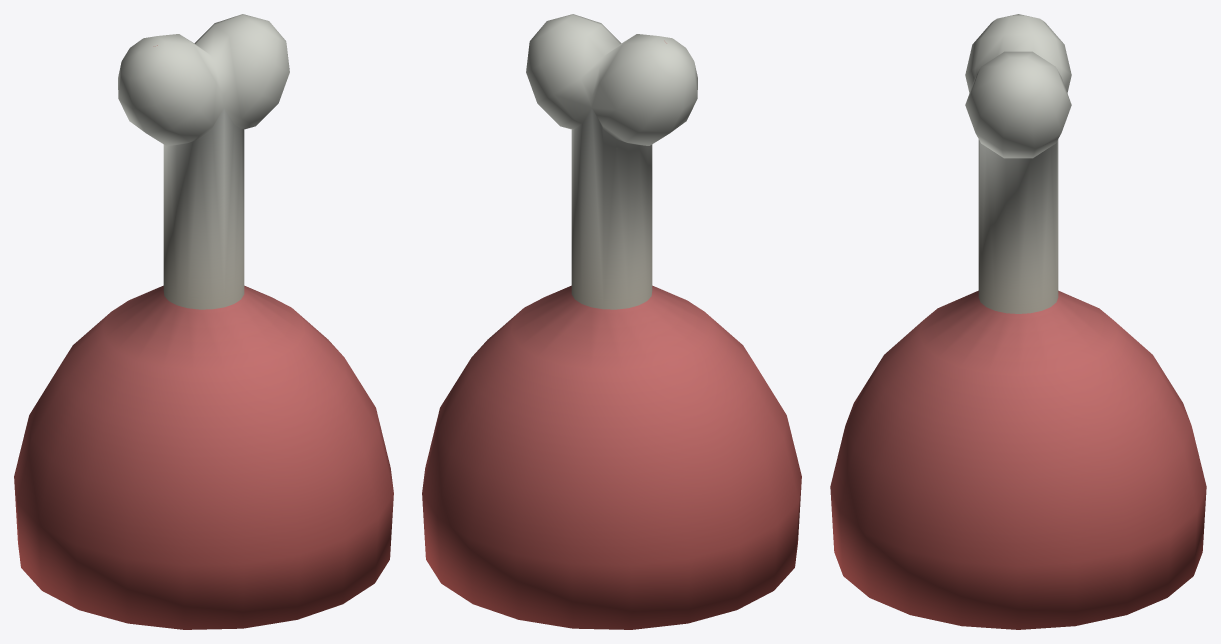
File: Shank.fbx
The picture shows the model from 3 angles, left to right: view 1: azimuth 30°, elevation 25°; view 2: azimuth 150°, elevation 25°; view 3: azimuth 270°, elevation 25°; orthographic projection.
Visible parts, largest first — view 1: Shank; view 2: Shank; view 3: Shank.
Part boxes in pixels (x1=…): Shank: x1=14, y1=14, x2=393, y2=629; Shank: x1=422, y1=14, x2=801, y2=629; Shank: x1=830, y1=14, x2=1206, y2=629.
Size of the model in its own units: 205 by 309 by 205.
